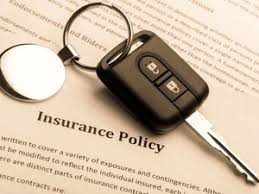kicharina: (95, 26, 259, 187)
